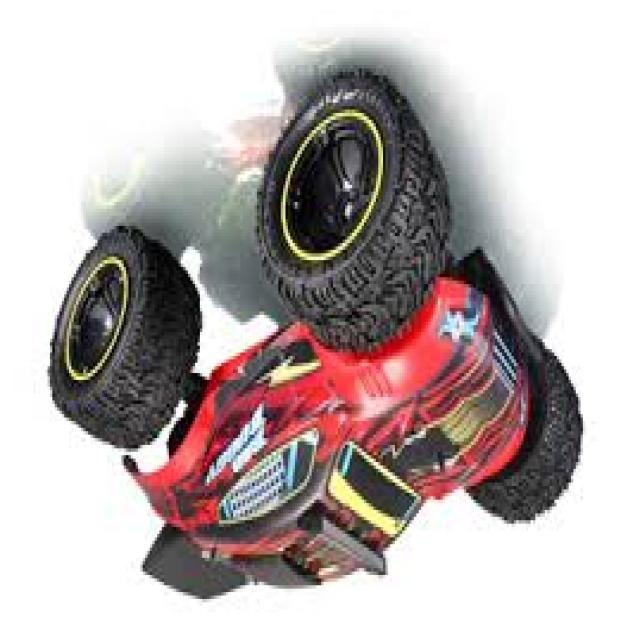Car: (48, 68, 585, 606)
